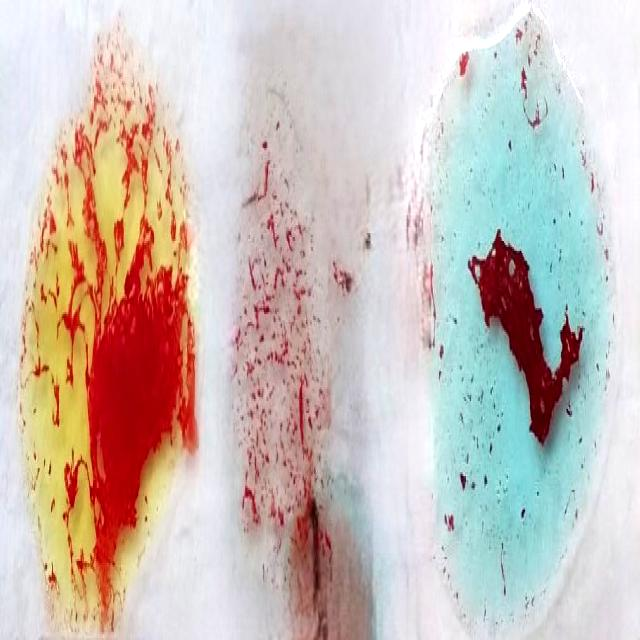A: (430, 28, 605, 623)
B: (28, 32, 188, 640)
D: (227, 111, 340, 634)
